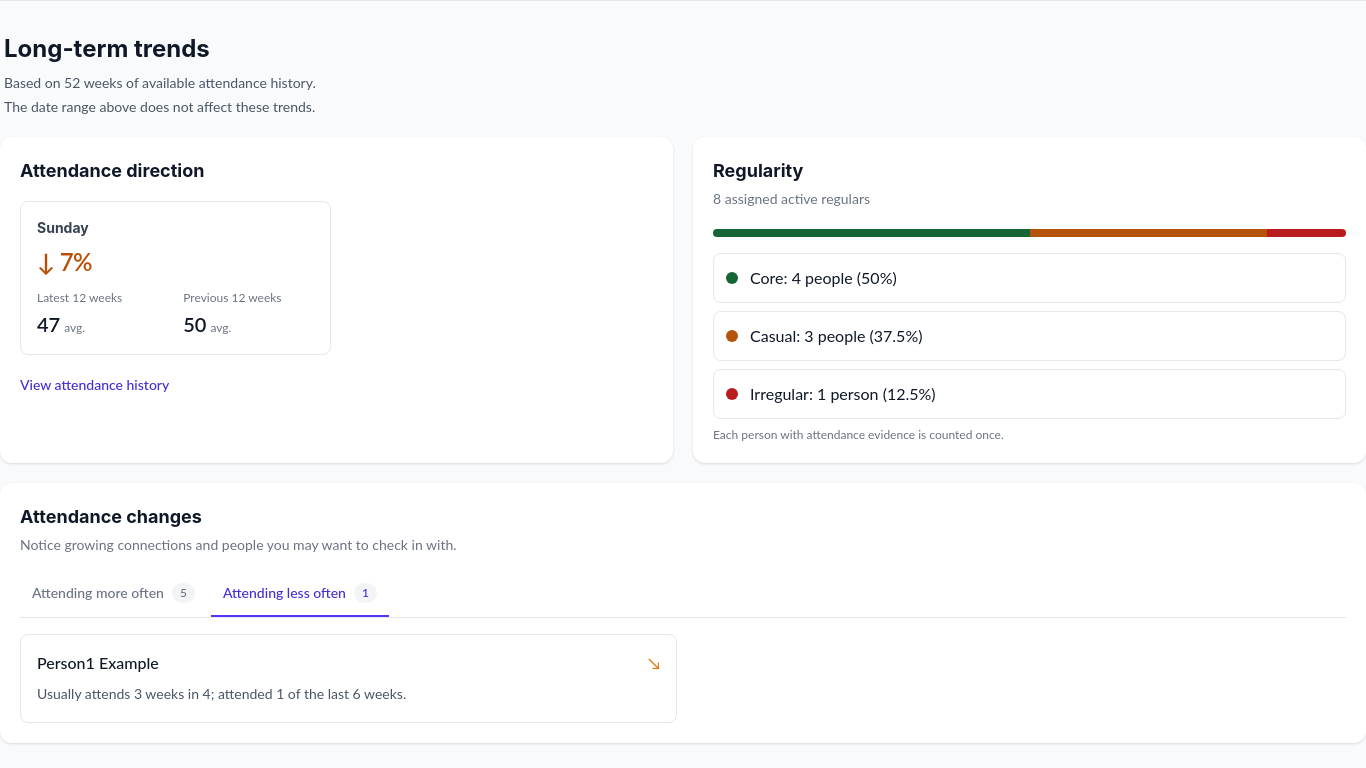
Scenario: LongTermTrends › switches between attendance changes with keyboard navigation and opens all increases
Press ArrowLeft in the tab "Attending less often 1", box [211, 571, 389, 617]
(page scrolled)
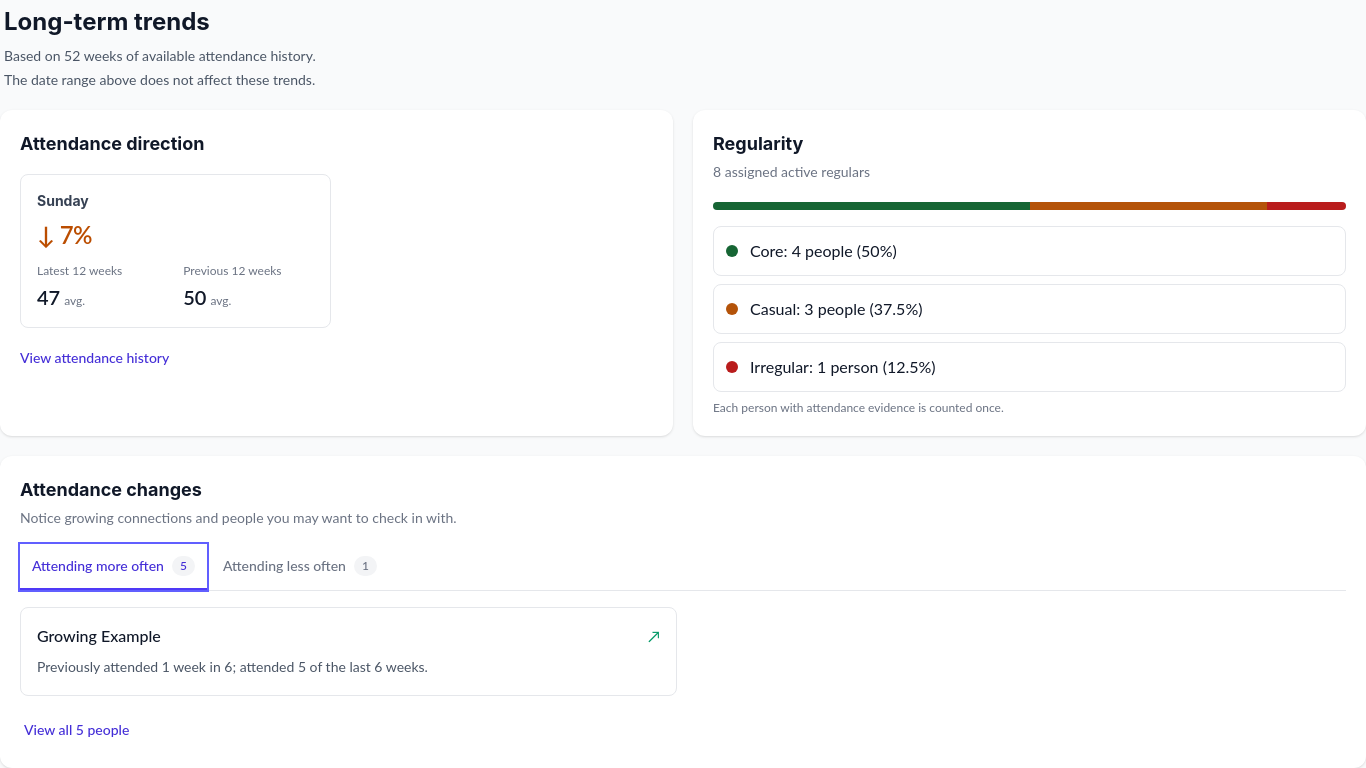
expect the text "Growing Example" is shown: met, box [37, 624, 161, 648]
expect the button "Person1 Example" is gone: met
Click the button "View all 5 people".
click(77, 730)  # box [20, 712, 133, 748]
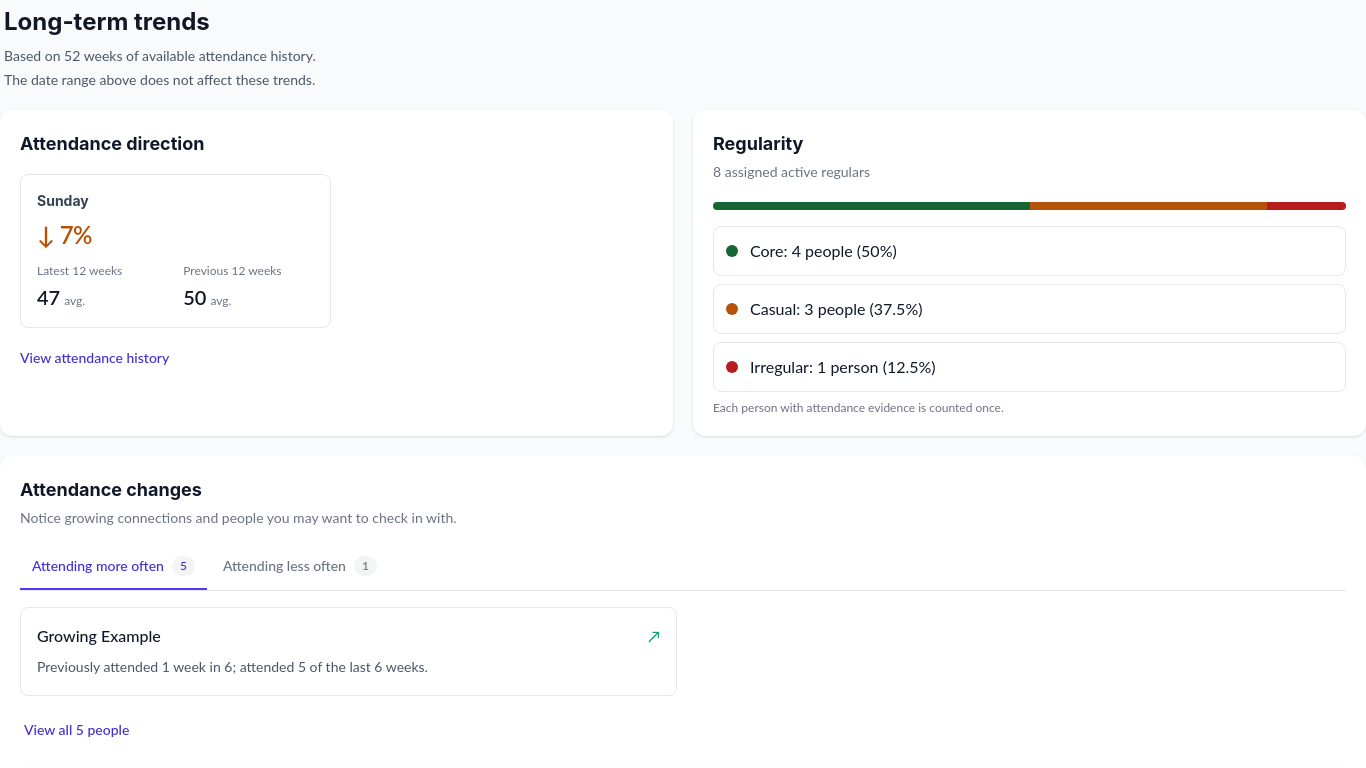
Click the tab "Attending less often 1".
click(300, 567)  # box [211, 544, 389, 590]
(page scrolled)
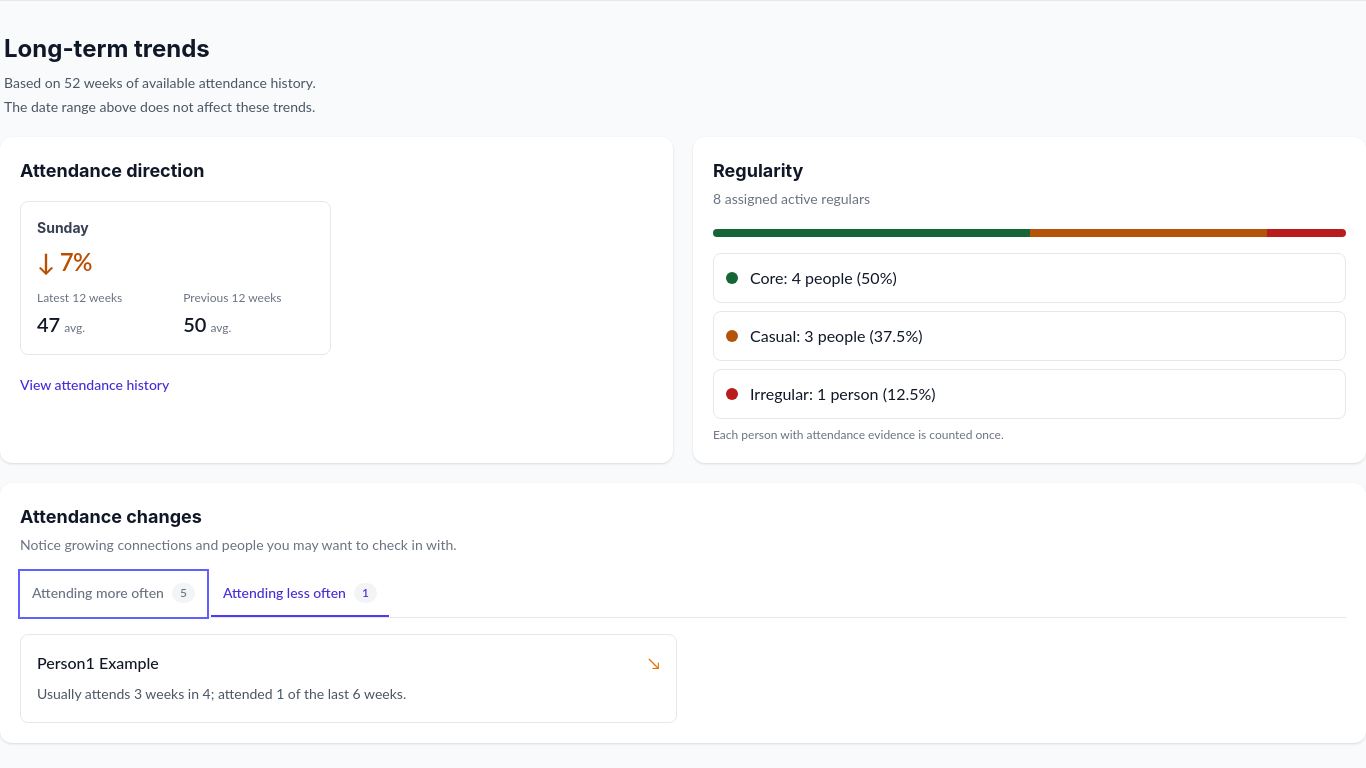
expect the button "Growing Example" is gone: met
